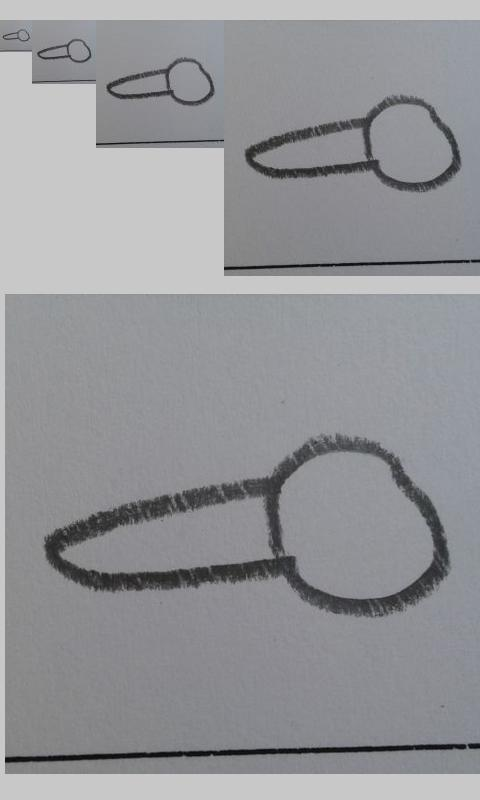switch: (43, 431, 453, 618), (243, 94, 464, 193), (106, 57, 215, 106), (37, 38, 92, 63), (2, 29, 31, 42)
